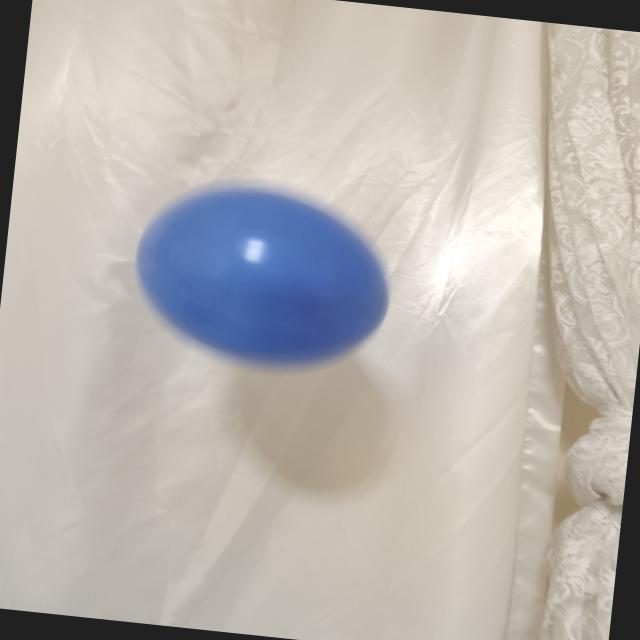balloon: (136, 187, 388, 365)
